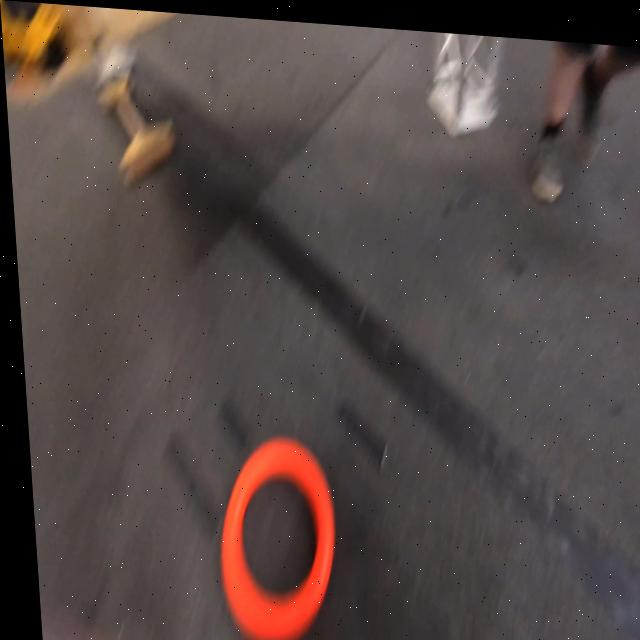note: (209, 438, 338, 640)
